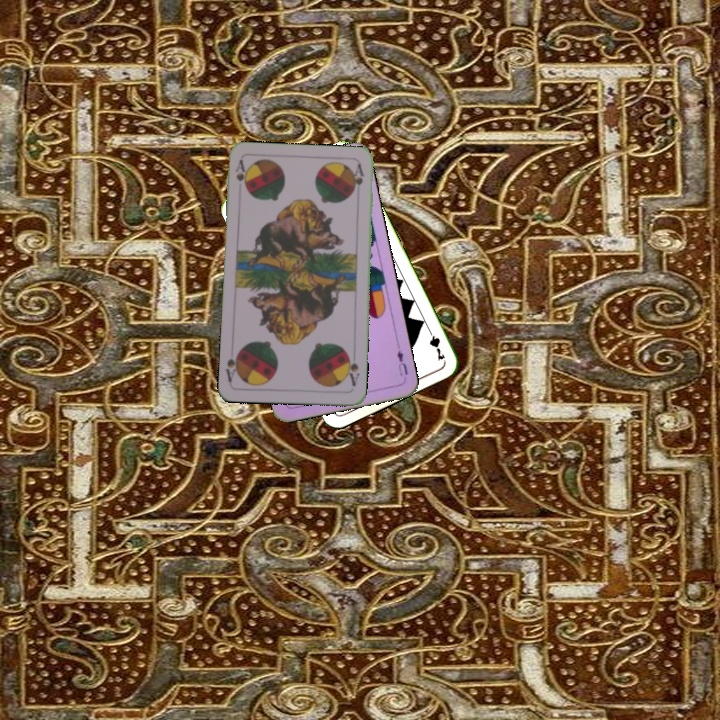EU: (393, 346, 410, 378)
G7: (424, 323, 448, 363)
SA: (342, 350, 362, 388), (232, 156, 250, 193)
